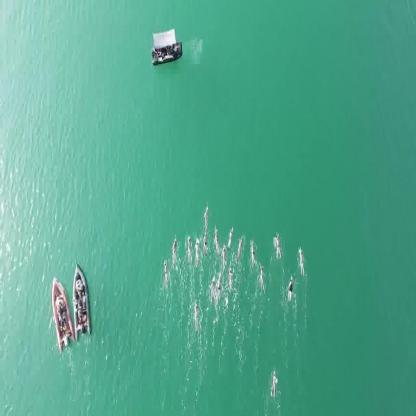Boat: (50, 281, 72, 349), (73, 262, 94, 330)
